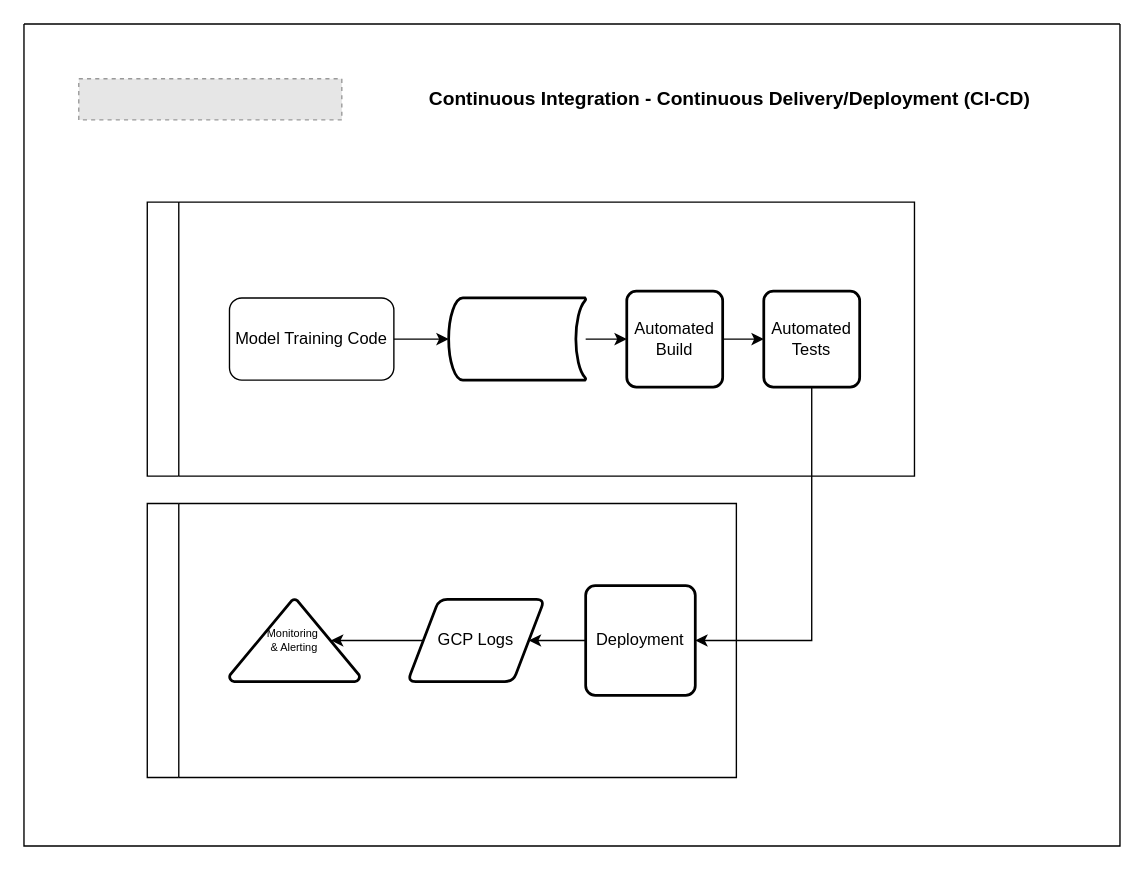
This 1144x870 diagram has some shape labels left out. Grey dashed boxes stand in for pictures. The shapes that lost their labels are listed below. From the top down, each one's box as (x1, y1, x2, y2) in pixels, then its label:
(447, 296, 586, 381): Source Code Repository (GitLab/GitHub)
(146, 201, 914, 476): Continuous Integration
(146, 502, 736, 777): Continuous Delivery/Deployment
